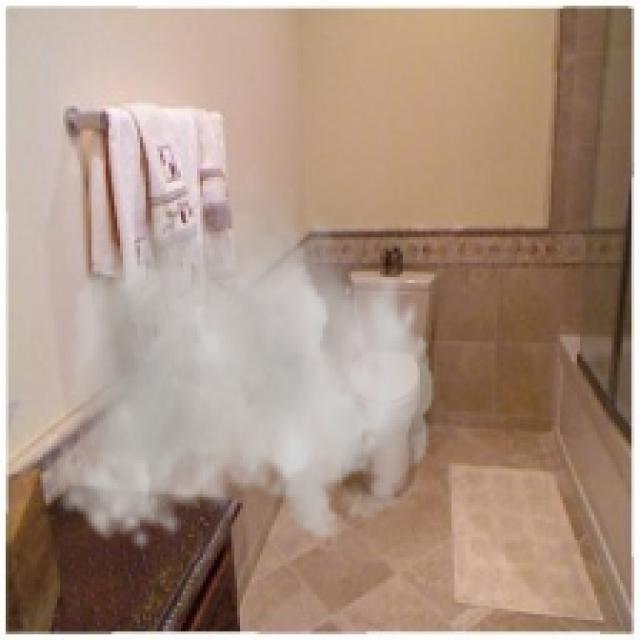Smoke: (54, 166, 434, 554)
